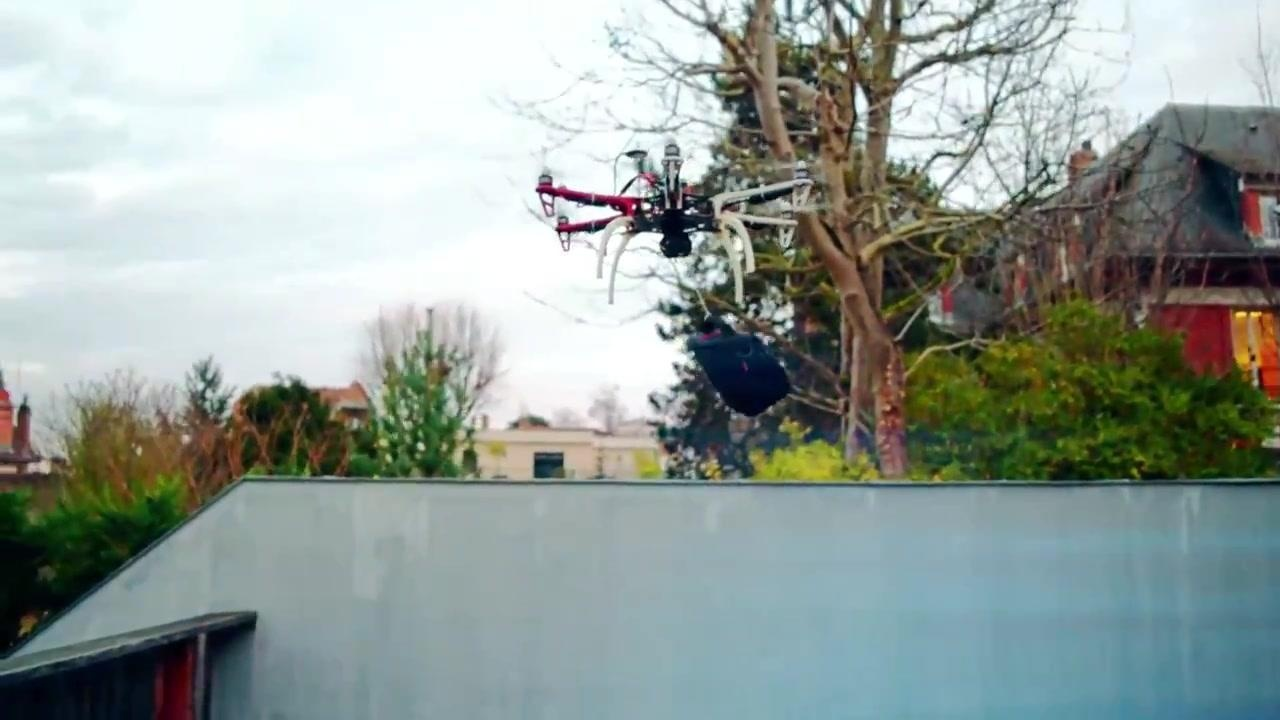UAV: (536, 138, 815, 306)
